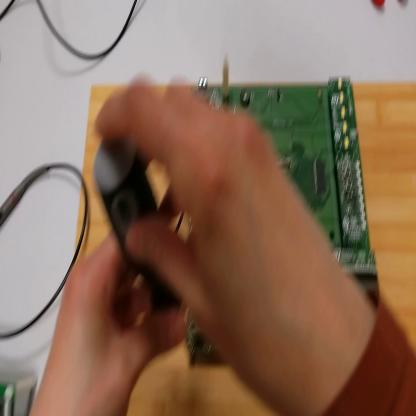hand: (94, 75, 339, 393), (28, 209, 189, 415)
low voltage board: (187, 77, 382, 363)
oscilloscope probe tip: (1, 159, 50, 228)
screwdriver-: (95, 137, 194, 379)
working area: (78, 80, 415, 414)
